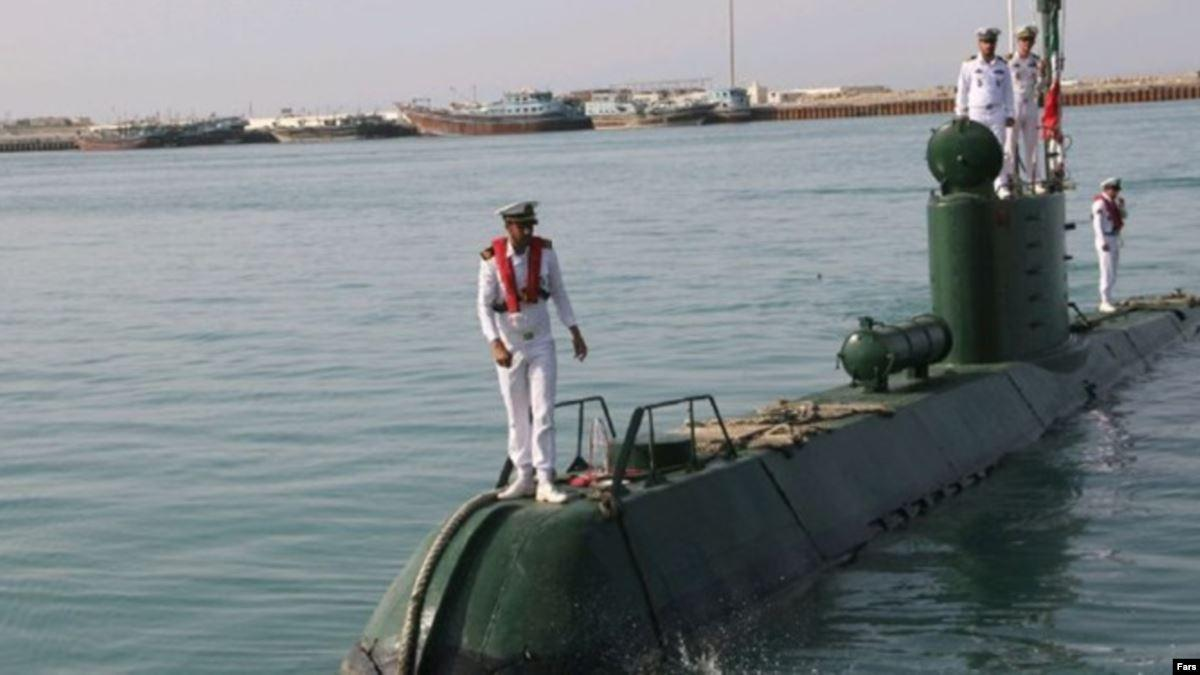Submarine: (598, 110, 1200, 675)
